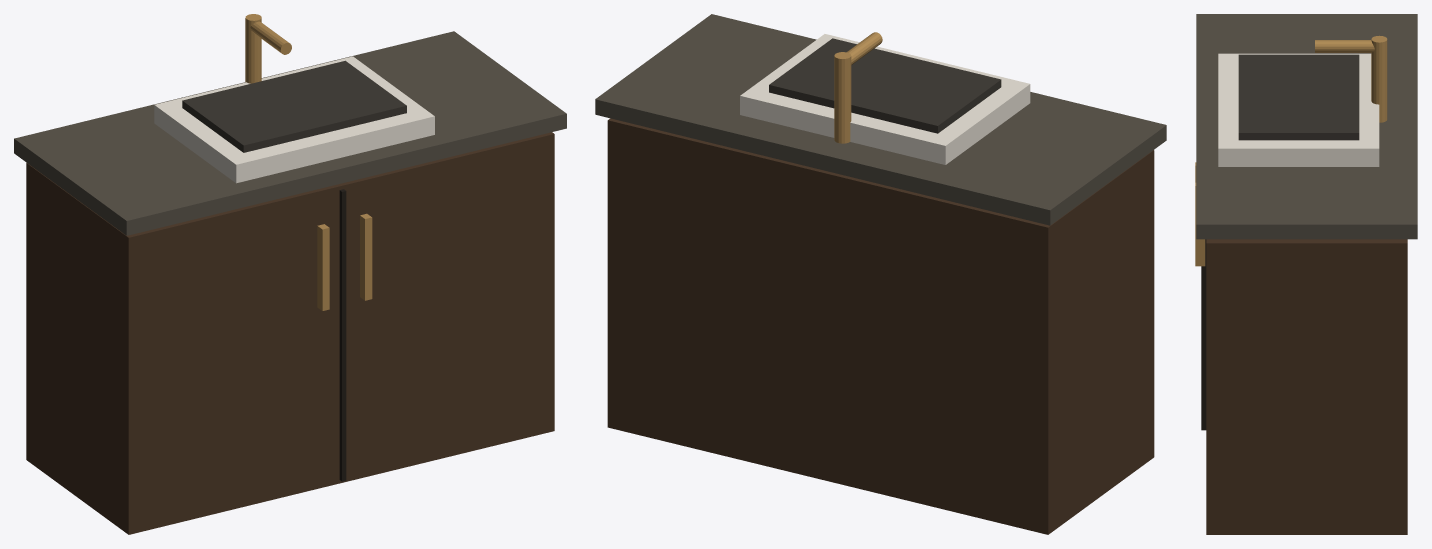
The picture shows the model from 3 angles, left to right: view 1: azimuth 30°, elevation 25°; view 2: azimuth 150°, elevation 25°; view 3: azimuth 270°, elevation 25°; orthographic projection. The views are drawn at different scales.
Visible parts, largest first — view 1: vanity; view 2: vanity; view 3: vanity.
Boxes of the visible parts, x1,y1,x2,y2 form: vanity: (14,14,566,534); vanity: (595,14,1166,534); vanity: (1195,14,1417,534).
Size of the model in its own units: 1.24 by 1.08 by 0.5525.
